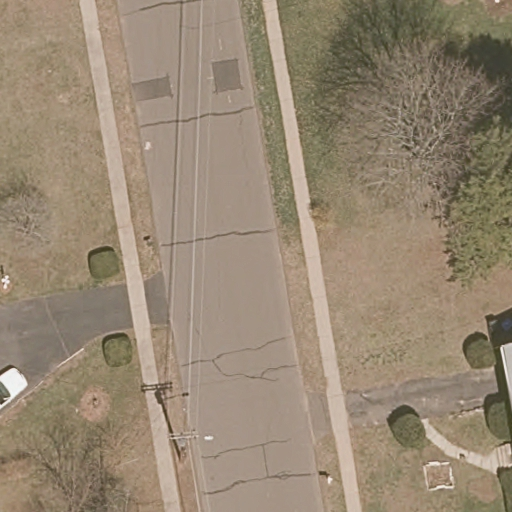DT: (169, 428, 199, 464)
